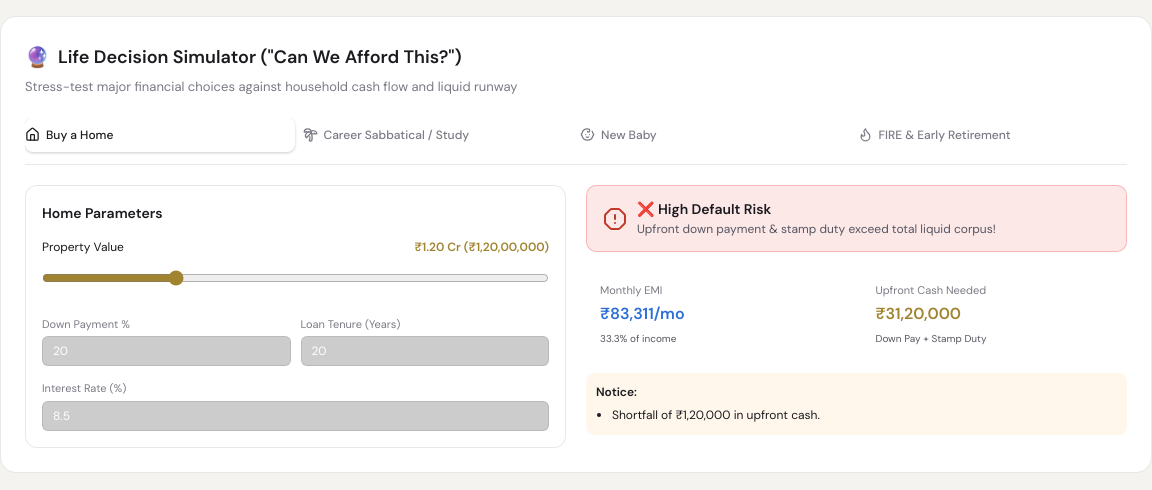
Test: LifeDecisionLab Component › switches to Career Sabbatical scenario on tab click
What coordinates should you click on to do the following:
click the button "Career Sabbatical / Study"
I would click on:
 (437, 135)
Its box is [302,118,572,152].
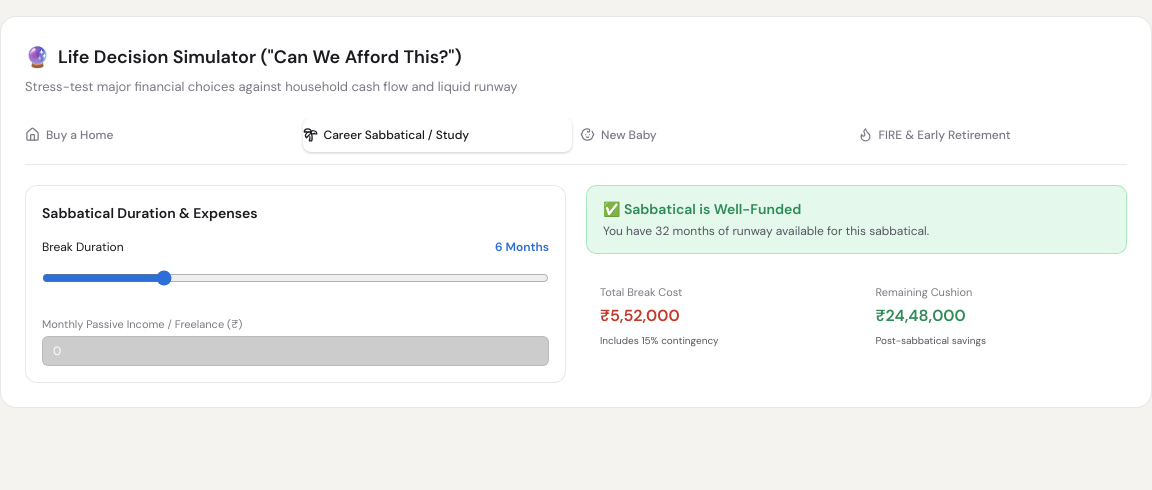
expect the text "Break Duration" is shown: met, box [42,238,124,257]
expect the text "Total Break Cost" is shown: met, box [600,285,682,299]
